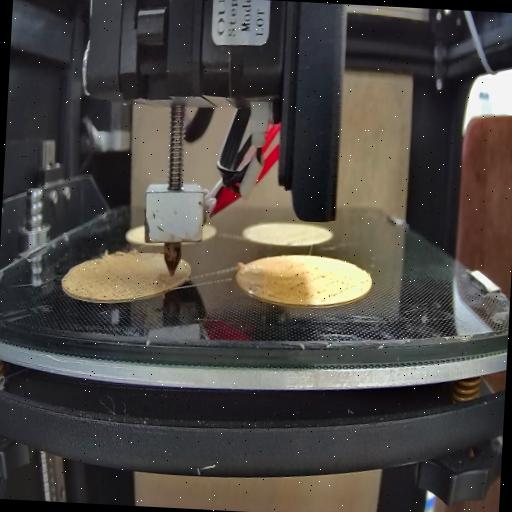under_extrusion: (290, 268, 361, 305), (62, 274, 109, 302), (250, 284, 277, 301), (115, 272, 133, 288)
